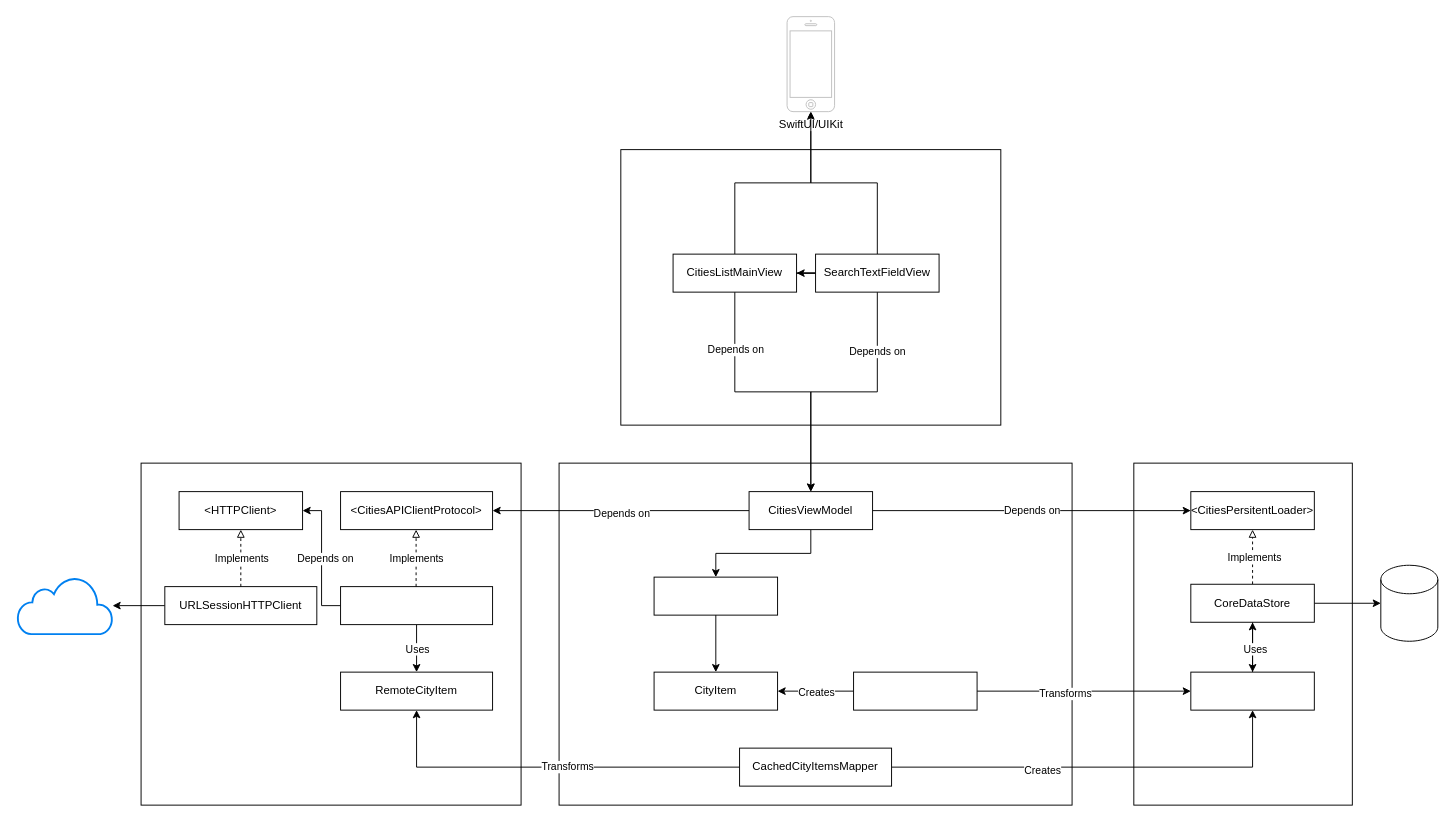
Some shapes in this 1454 by 822 pixel diagram are drawn without their labels. The centre of each missing label's shape, as x and y in pixels:
Cities Backend: point 64,605
CitiesAPIClient: point 416,605
CityItemsMapper: point 915,690
Core Data: point 1409,602
ManagedCityItem: point 1252,690
SearchHelper: point 715,595
